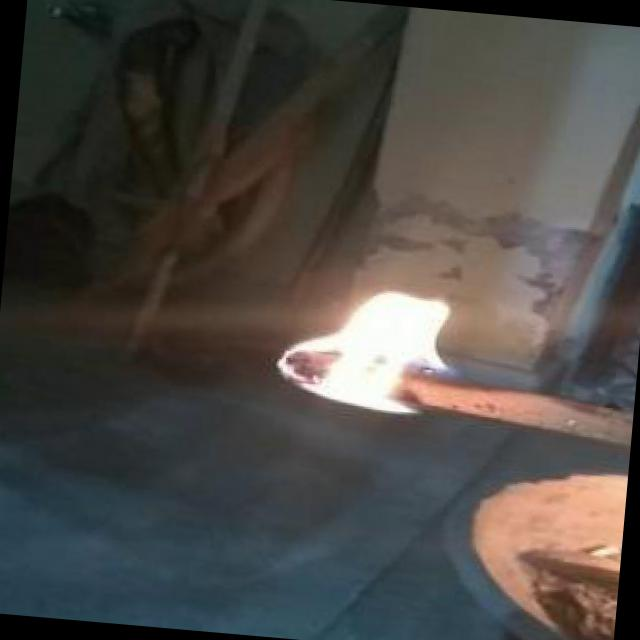fire: (260, 274, 490, 434)
